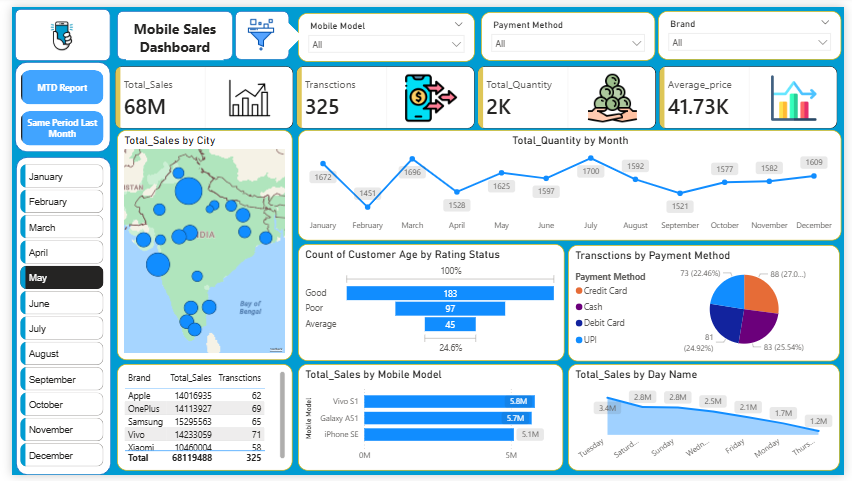

The dashboard page shown, as its layout file describes it:
{"tool":"powerbi","page":{"name":"Mobile Sale Dashboard","canvas":[1280,720],"ordinal":0},"visuals":[{"type":"shape","box":[5,3.3,146.7,80],"z":0},{"type":"image","box":[48.3,18.3,60,50],"z":1000},{"type":"shape","box":[5,85,146.7,138.3],"z":2000},{"type":"shape","box":[5,225,146.7,490],"z":3000},{"type":"advancedSlicerVisual","fields":{"Values":["Custom_Calendar.Date.Variation.Date Hierarchy.Month"]},"box":[8.3,236.7,138.3,478.3],"z":4000},{"type":"cardVisual","fields":{"Data":["Mobile_Sales_data.Total_Sales","Mobile_Sales_data.Transctions","Mobile_Sales_data.Total_Quantity","Mobile_Sales_data.Average_price"]},"box":[151.5,83.3,1128.8,112.1],"z":5000},{"type":"slicer","fields":{"Values":["Mobile_Sales_data.Mobile Model"]},"box":[439.4,8.5,272.1,75.1],"z":6000},{"type":"slicer","fields":{"Values":["Mobile_Sales_data.Payment Method"]},"box":[721.4,7.1,267.9,75.1],"z":7000},{"type":"slicer","fields":{"Values":["Mobile_Sales_data.Brand"]},"box":[993.5,5.7,282,75.1],"z":8000},{"type":"shape","box":[343.3,6.7,83.3,75],"z":9000},{"type":"shape","box":[400,23.3,46.7,45],"z":10000},{"type":"image","box":[343.3,5,80,75],"z":11000},{"type":"shape","box":[161.7,6.7,178,75],"z":12000},{"type":"textbox","box":[175,13.3,150,68.3],"z":13000},{"type":"azureMap","fields":{"Category":["Mobile_Sales_data.City"],"Size":["Mobile_Sales_data.Total_Sales"]},"box":[161.6,189.9,270,354.3],"z":14000},{"type":"lineChart","fields":{"Category":["Custom_Calendar.Date.Variation.Date Hierarchy.Month"],"Y":["Mobile_Sales_data.Total_Quantity"]},"box":[439.4,189.9,836.2,170.1],"z":15000},{"type":"funnel","fields":{"Y":["CountNonNull(Mobile_Sales_data.Customer Age)"],"Category":["Mobile_Sales_data.Rating Status"]},"box":[439.4,364.3,409.6,180],"z":16000},{"type":"pieChart","fields":{"Y":["Mobile_Sales_data.Transctions"],"Category":["Mobile_Sales_data.Payment Method"]},"box":[856.1,365.7,418.1,178.6],"z":17000},{"type":"clusteredBarChart","fields":{"Y":["Mobile_Sales_data.Total_Sales"],"Category":["Mobile_Sales_data.Mobile Model"]},"box":[439.4,548.5,408.2,164.4],"z":18000},{"type":"areaChart","fields":{"Y":["Mobile_Sales_data.Total_Sales"],"Category":["Custom_Calendar.Day Name"]},"box":[856.1,548.5,418.1,164],"z":19000},{"type":"tableEx","fields":{"Values":["Mobile_Sales_data.Brand","Mobile_Sales_data.Total_Sales","Mobile_Sales_data.Transctions"]},"box":[161.6,549.9,270,164.4],"z":20000},{"type":"pageNavigator","box":[14.2,96.4,127.6,116.2],"z":20001}]}

Visuals, with their boxes in screenshot pixels (x1, y1, x2, y2), scaled from the page's 1280x720 canvas onto the 852x481 screenshot:
shape: locate(3, 2, 101, 56)
image: locate(32, 12, 72, 46)
shape: locate(3, 57, 101, 149)
shape: locate(3, 150, 101, 478)
advancedSlicerVisual - Custom_Calendar.Date.Variation.Date Hierarchy.Month: locate(6, 158, 98, 478)
cardVisual - Mobile_Sales_data.Total_Sales x Mobile_Sales_data.Transctions: locate(101, 56, 851, 131)
slicer - Mobile_Sales_data.Mobile Model: locate(292, 6, 474, 56)
slicer - Mobile_Sales_data.Payment Method: locate(480, 5, 659, 55)
slicer - Mobile_Sales_data.Brand: locate(661, 4, 849, 54)
shape: locate(229, 4, 284, 55)
shape: locate(266, 16, 297, 46)
image: locate(229, 3, 282, 53)
shape: locate(108, 4, 226, 55)
textbox: locate(116, 9, 216, 55)
azureMap - Mobile_Sales_data.City x Mobile_Sales_data.Total_Sales: locate(108, 127, 287, 364)
lineChart - Custom_Calendar.Date.Variation.Date Hierarchy.Month x Mobile_Sales_data.Total_Quantity: locate(292, 127, 849, 240)
funnel - CountNonNull(Mobile_Sales_data.Customer Age) x Mobile_Sales_data.Rating Status: locate(292, 243, 565, 364)
pieChart - Mobile_Sales_data.Transctions x Mobile_Sales_data.Payment Method: locate(570, 244, 848, 364)
clusteredBarChart - Mobile_Sales_data.Total_Sales x Mobile_Sales_data.Mobile Model: locate(292, 366, 564, 476)
areaChart - Mobile_Sales_data.Total_Sales x Custom_Calendar.Day Name: locate(570, 366, 848, 476)
tableEx - Mobile_Sales_data.Brand x Mobile_Sales_data.Total_Sales: locate(108, 367, 287, 477)
pageNavigator: locate(9, 64, 94, 142)
